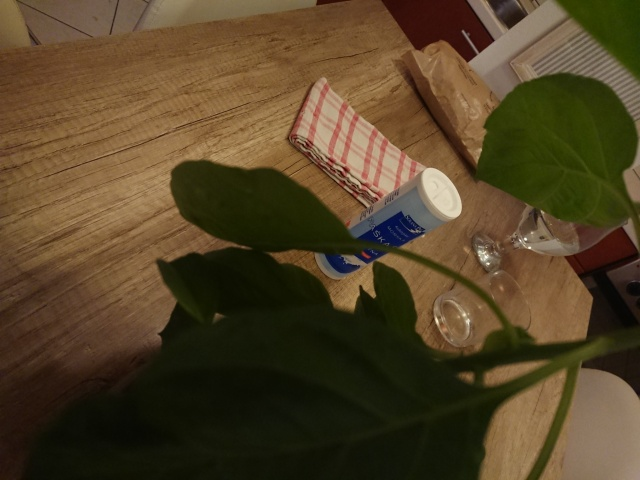Solana Pag Fine Sea Salt 250g: (311, 165, 465, 283)
